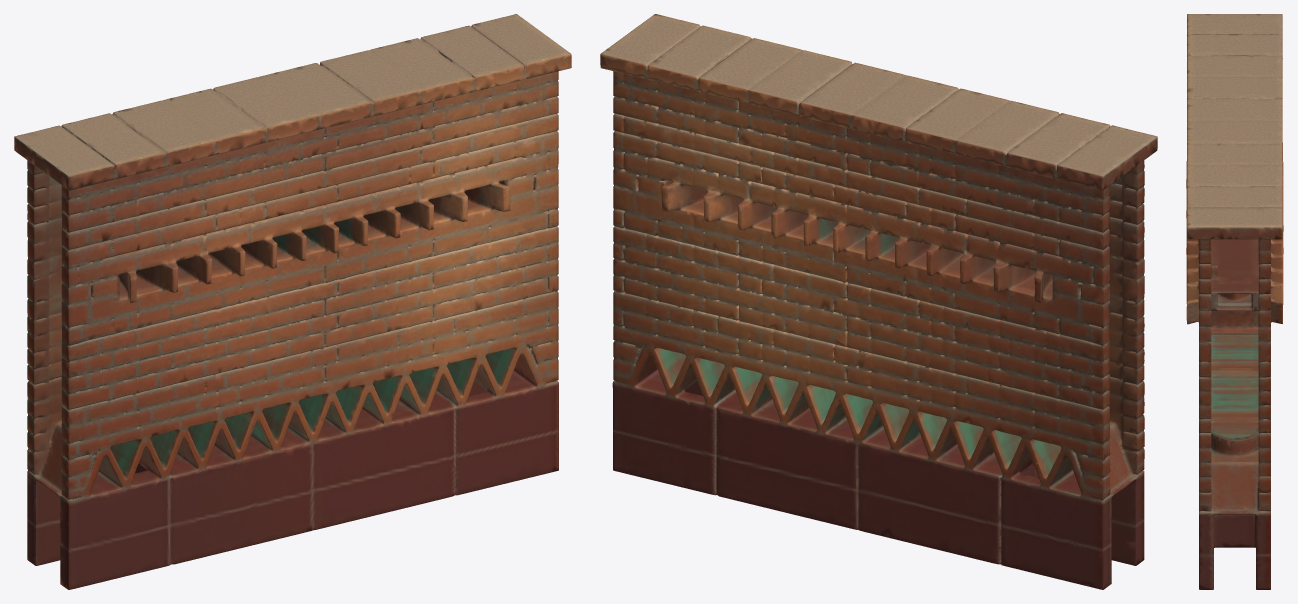
Rendered from muro.glb.
The picture shows the model from 3 angles, left to right: view 1: azimuth 30°, elevation 25°; view 2: azimuth 150°, elevation 25°; view 3: azimuth 270°, elevation 25°; orthographic projection. The views are drawn at different scales.
Visible parts, largest first — view 1: mesh_node; view 2: mesh_node; view 3: mesh_node.
Part boxes in pixels (box(x1,y1,x2,y2)): mesh_node: box(14, 14, 571, 589); mesh_node: box(600, 14, 1157, 589); mesh_node: box(1186, 14, 1283, 589).
Bounding box in the file's own units: 1 × 0.7996 × 0.1926.
1 material, 1 textured.
